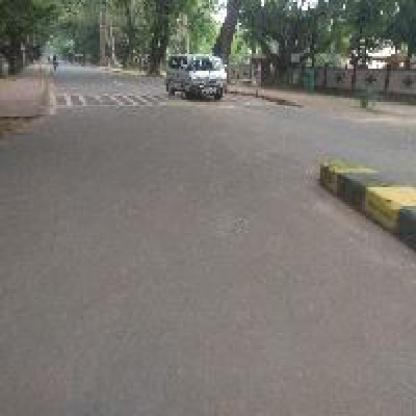Speed Bump: (48, 90, 162, 110)
